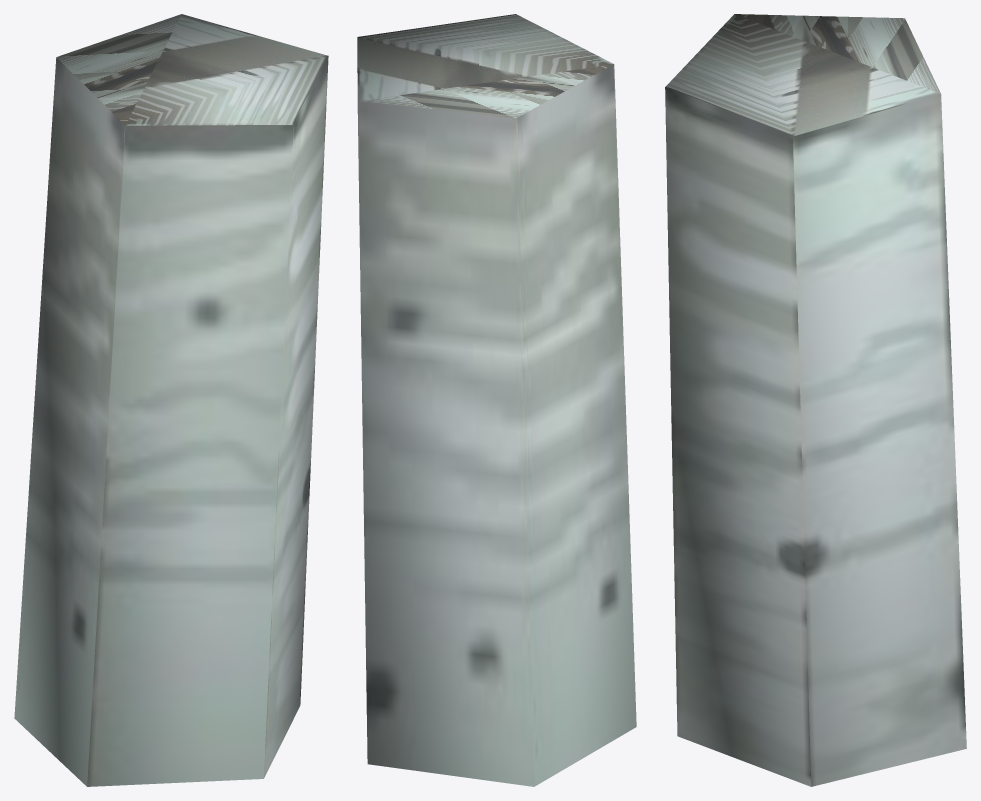
The model's file is topHalfTreeTrunk.glb.
The picture shows the model from 3 angles, left to right: view 1: azimuth 30°, elevation 25°; view 2: azimuth 150°, elevation 25°; view 3: azimuth 270°, elevation 25°; orthographic projection. The views are drawn at different scales.
Parts seen in each view (by area): view 1: TopHalfTreeTrunk; view 2: TopHalfTreeTrunk; view 3: TopHalfTreeTrunk.
Part boxes in pixels (x1=…): TopHalfTreeTrunk: x1=14, y1=14, x2=328, y2=786; TopHalfTreeTrunk: x1=357, y1=14, x2=636, y2=786; TopHalfTreeTrunk: x1=665, y1=14, x2=966, y2=786.
Bounding box in the file's own units: 0.4764 × 1.15 × 0.4685.
1 material, 1 textured.
